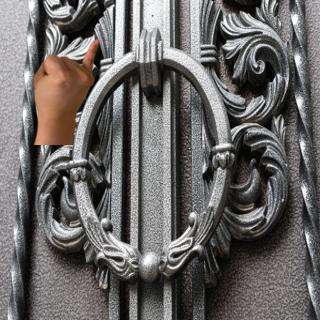FINE: (27, 36, 103, 129)
